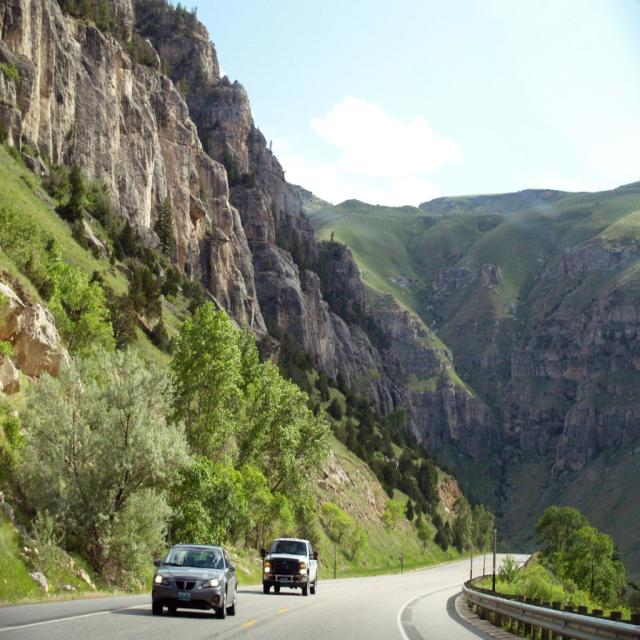car: (147, 537, 239, 626), (258, 532, 318, 596)
